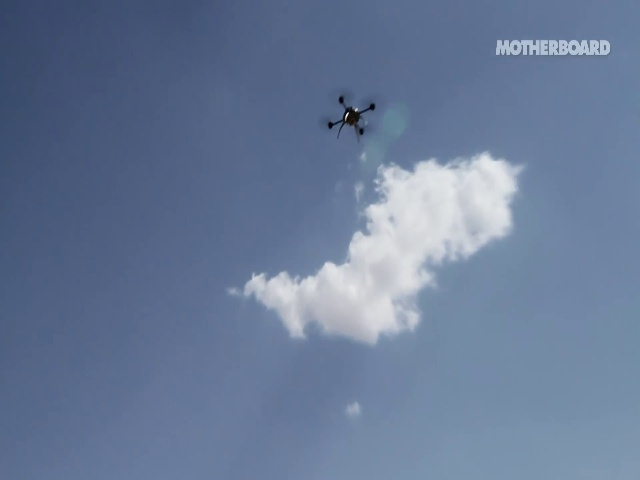drone: (312, 82, 384, 152)
